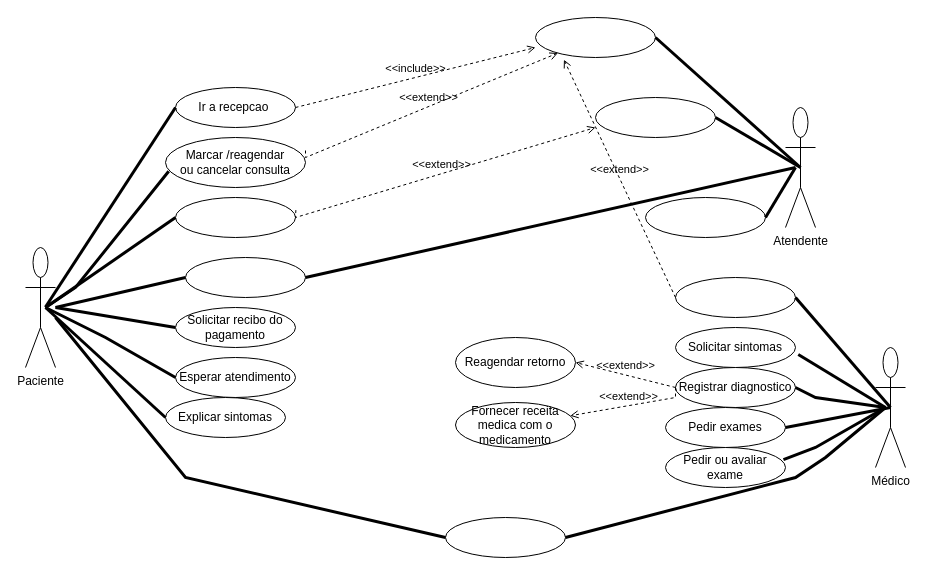
The diagram is 927 pixels wide and 575 high, and some of its shapes have lost their labels. The centre of each missing label's shape, as x and y in pixels:
Consultar agenda: point (595, 37)
Fornecer dados: point (235, 217)
Fornecer nota fiscal: point (705, 217)
Pedir/fornecer atestado médico: point (505, 537)
Realizar cadastro: point (655, 117)
Realizar pagamento/Receber pagamento: point (245, 277)
Verificar cadastro/histórico do paciente: point (735, 297)
